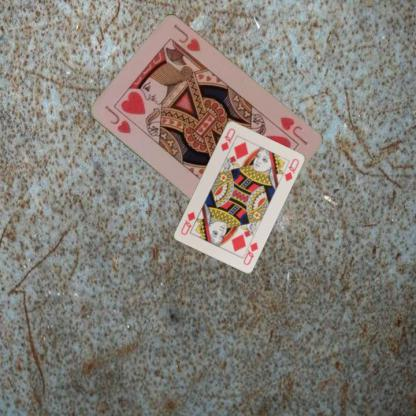Jh: (277, 114, 309, 147), (102, 102, 132, 136)
Qd: (240, 235, 260, 266), (218, 125, 236, 152)
